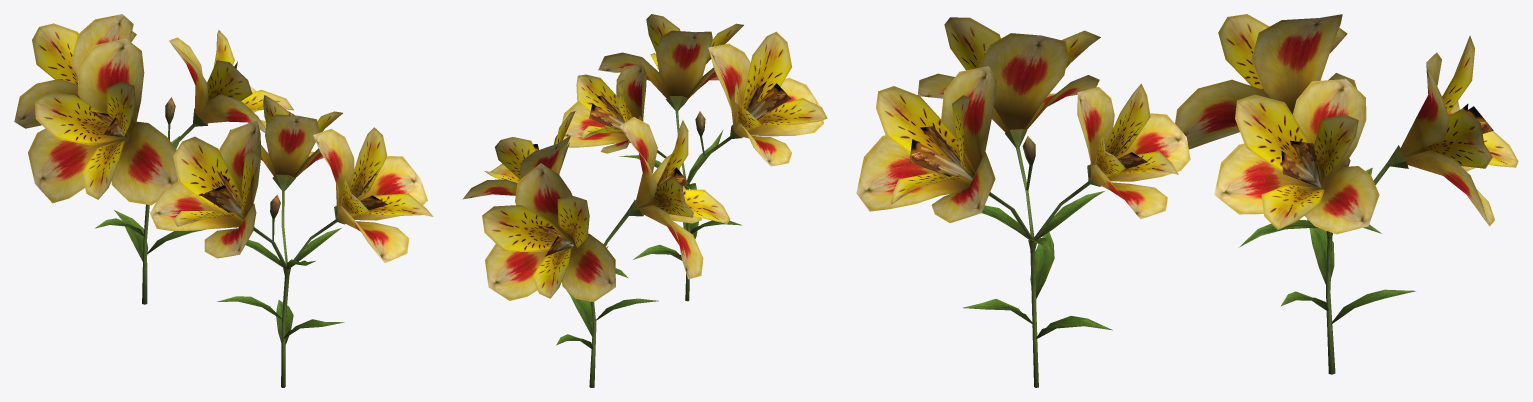
Rendered from Alstroemeria.FBX.
3 views of the same model, side by side, from view 1: azimuth 30°, elevation 25°; view 2: azimuth 150°, elevation 25°; view 3: azimuth 270°, elevation 25° (orthographic). The views are drawn at different scales.
Visible parts, largest first — view 1: Alstroemeria, Alstroemeria001; view 2: Alstroemeria, Alstroemeria001; view 3: Alstroemeria, Alstroemeria001.
Boxes of the visible parts, bbox=[...] form: Alstroemeria: bbox=[14, 14, 293, 304]; Alstroemeria001: bbox=[150, 95, 433, 387]; Alstroemeria: bbox=[462, 111, 730, 387]; Alstroemeria001: bbox=[561, 14, 827, 301]; Alstroemeria: bbox=[1175, 14, 1518, 374]; Alstroemeria001: bbox=[856, 17, 1190, 387].
Size of the model in its own units: 63.92 by 69.52 by 122.
